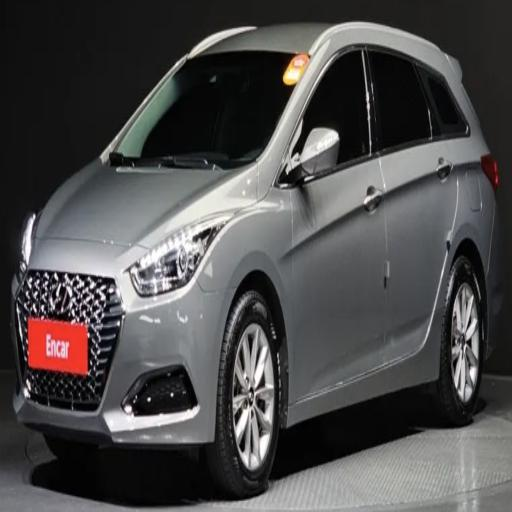scratch: (49, 185, 232, 427), (273, 26, 472, 200)
